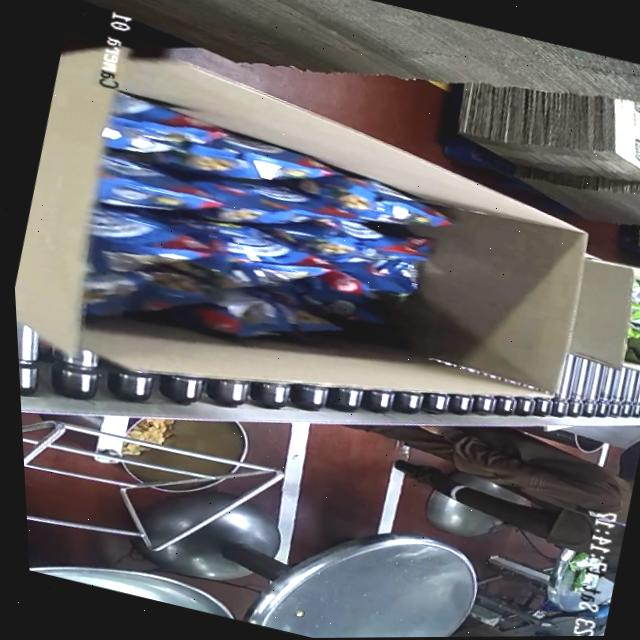PAPRIKA: (60, 89, 474, 397)
